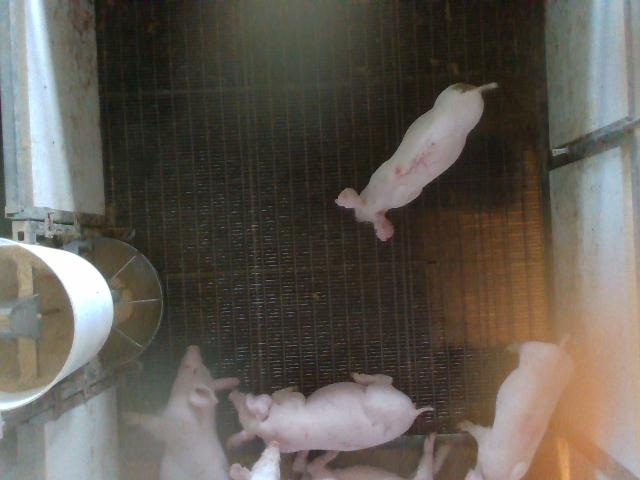pig-4: (460, 336, 574, 479)
pig-5: (335, 82, 496, 241)
